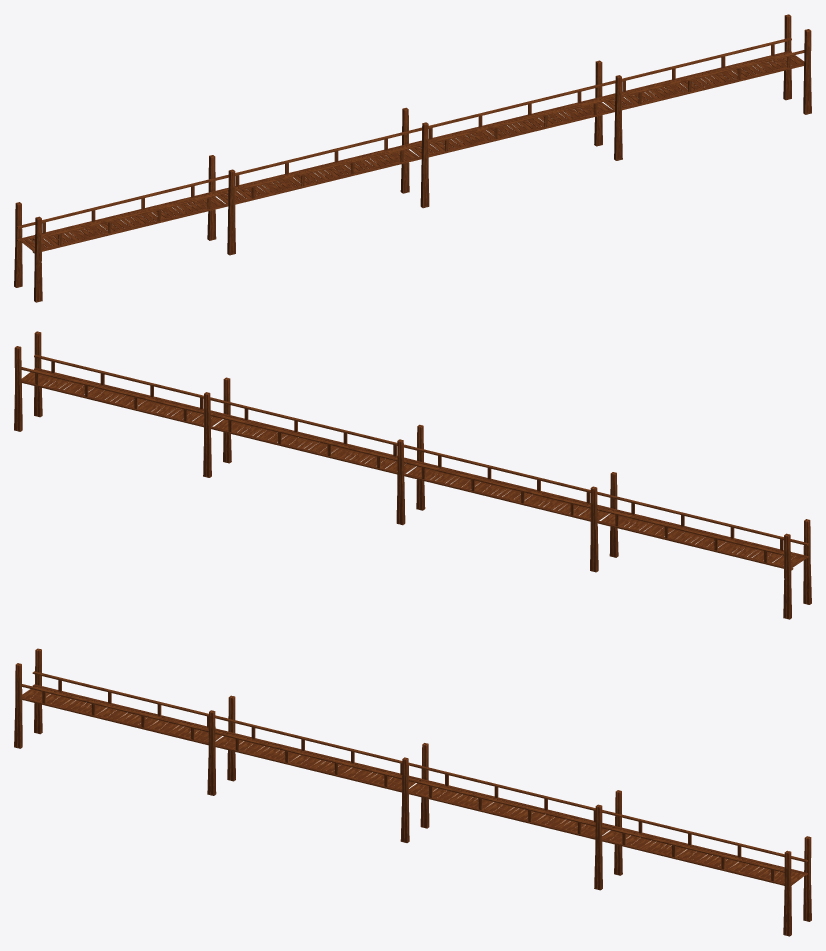
File: Puente.fbx
3 renders of one model, top to bottom at view 1: azimuth 30°, elevation 25°; view 2: azimuth 150°, elevation 25°; view 3: azimuth 330°, elevation 25°, orthographic.
Visible parts, largest first — view 1: Puente.001; view 2: Puente.001; view 3: Puente.001.
Boxes of the visible parts, x1,y1,x2,y2 form: Puente.001: (14, 14, 811, 302); Puente.001: (14, 331, 811, 619); Puente.001: (14, 648, 811, 936).
Size of the model in its own units: 5761 by 589 by 286.
